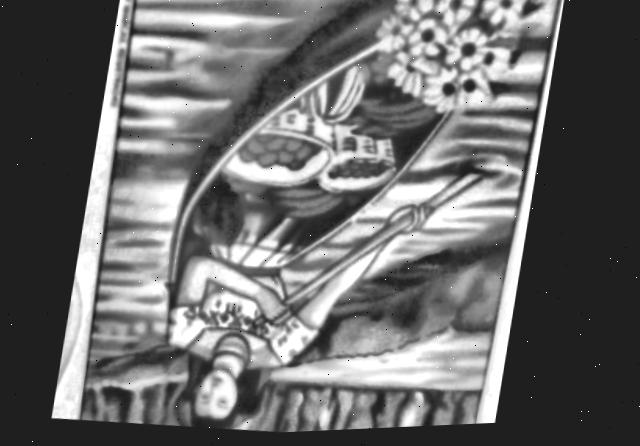La Chalupa: (80, 0, 560, 435)
